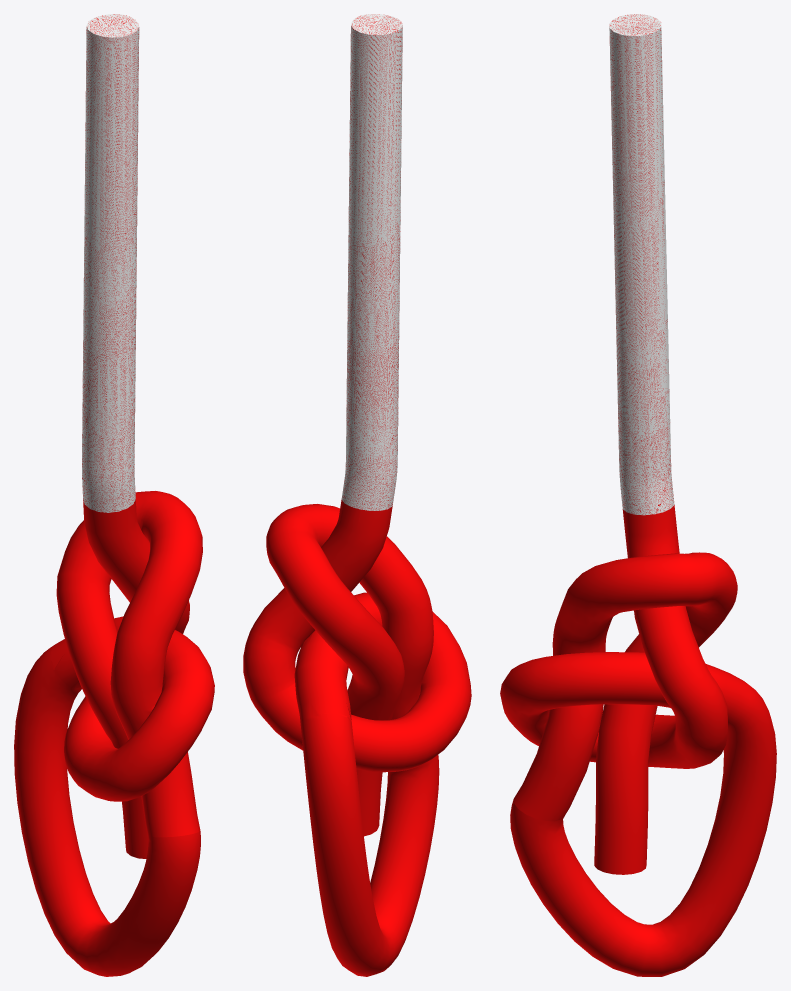
The model's file is rope.dae.
3 views of the same model, side by side, from view 1: azimuth 30°, elevation 25°; view 2: azimuth 150°, elevation 25°; view 3: azimuth 270°, elevation 25° (orthographic).
Visible parts, largest first — view 1: group_0 (×3); view 2: group_0 (×2); view 3: group_0 (×2).
Boxes of the visible parts, x1,y1,x2,y2 form: group_0 (×3): (14,14,214,976); group_0 (×2): (243,14,471,976); group_0 (×2): (500,14,776,976).
Size of the model in its own units: 345 by 542 by 2061.
